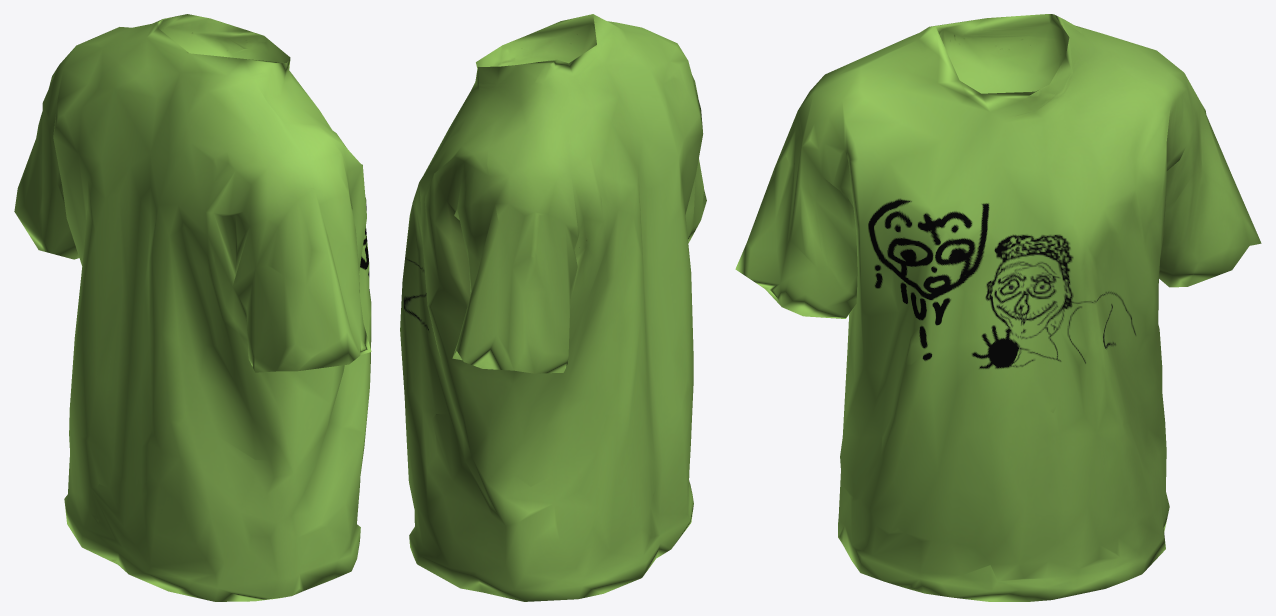
Rendered from shirt-grafetee.glb.
The picture shows the model from 3 angles, left to right: view 1: azimuth 30°, elevation 25°; view 2: azimuth 150°, elevation 25°; view 3: azimuth 270°, elevation 25°; orthographic projection. The views are drawn at different scales.
Parts seen in each view (by area): view 1: vizcom_node_0; view 2: vizcom_node_0; view 3: vizcom_node_0.
Part boxes in pixels (<box>): vizcom_node_0: <box>14,14,371,601</box>; vizcom_node_0: <box>400,14,706,601</box>; vizcom_node_0: <box>735,14,1261,601</box>.
Bounding box in the file's own units: 0.4858 × 1 × 0.9224.
1 material, 1 textured.
